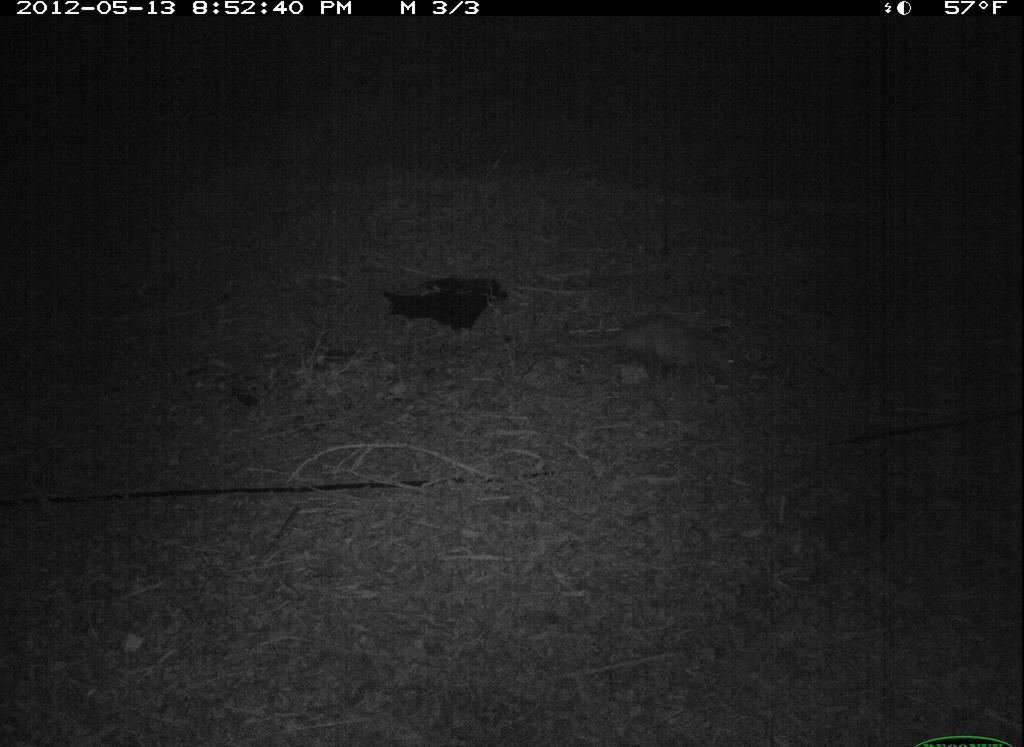opossum: (559, 310, 758, 394)
